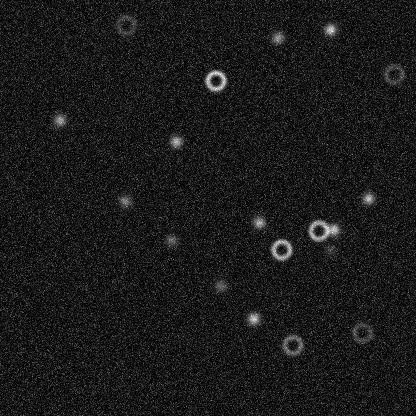Ring: (381, 61, 405, 85), (306, 218, 330, 242), (114, 13, 138, 37), (203, 68, 227, 92), (350, 320, 374, 344), (280, 332, 304, 356), (269, 237, 293, 261)
Spot: (245, 310, 261, 326), (325, 221, 341, 237), (163, 232, 179, 248), (51, 112, 67, 128), (212, 277, 228, 293), (250, 214, 266, 230), (321, 241, 337, 257), (116, 192, 132, 208), (322, 21, 338, 37), (360, 190, 376, 206), (269, 29, 285, 45), (168, 133, 184, 149)
